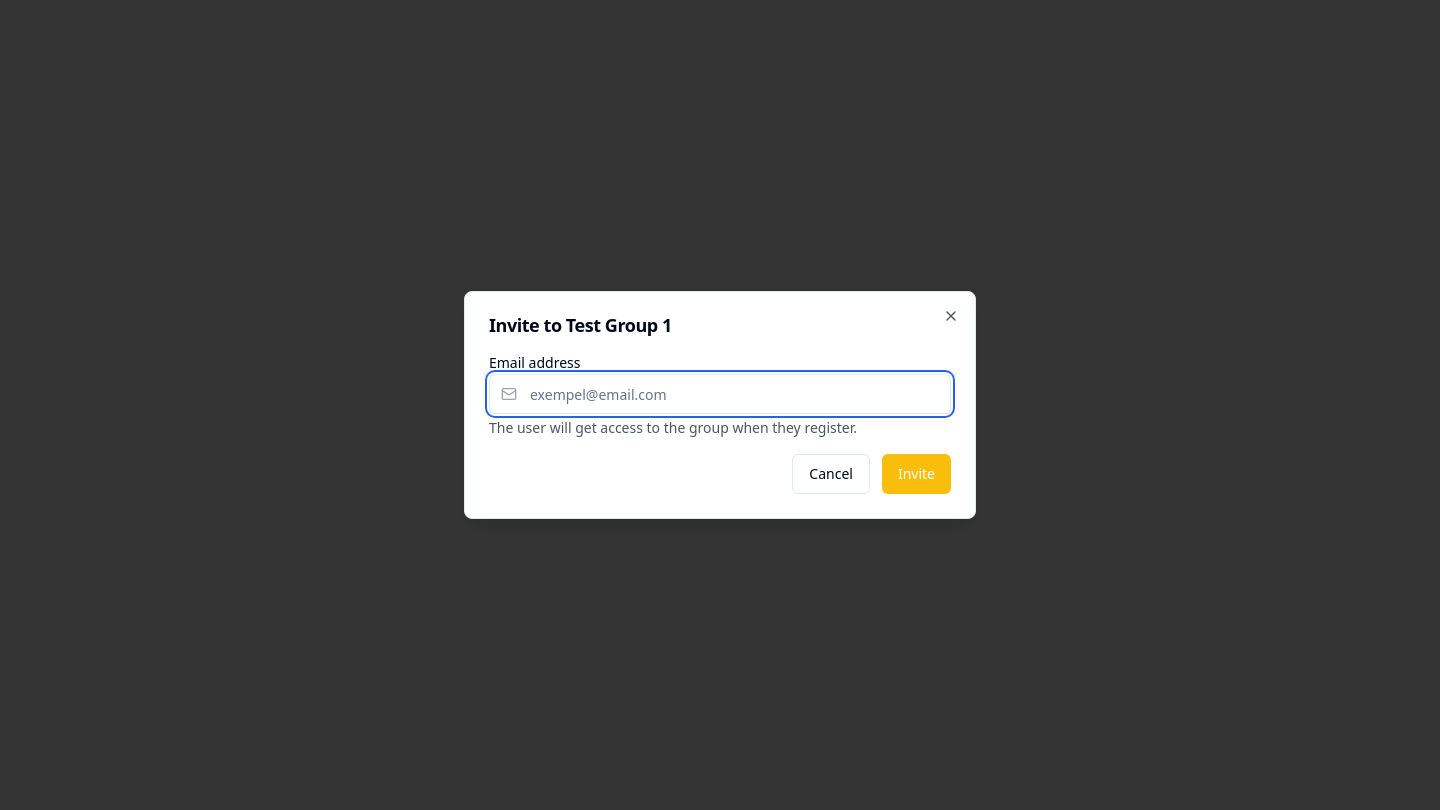
Test: Invitation Functionality › should allow inviting a user to a group
Fill in the email
Type "invite@example.com" into the field labelled "Email address" at (720, 394), box [489, 374, 951, 414]
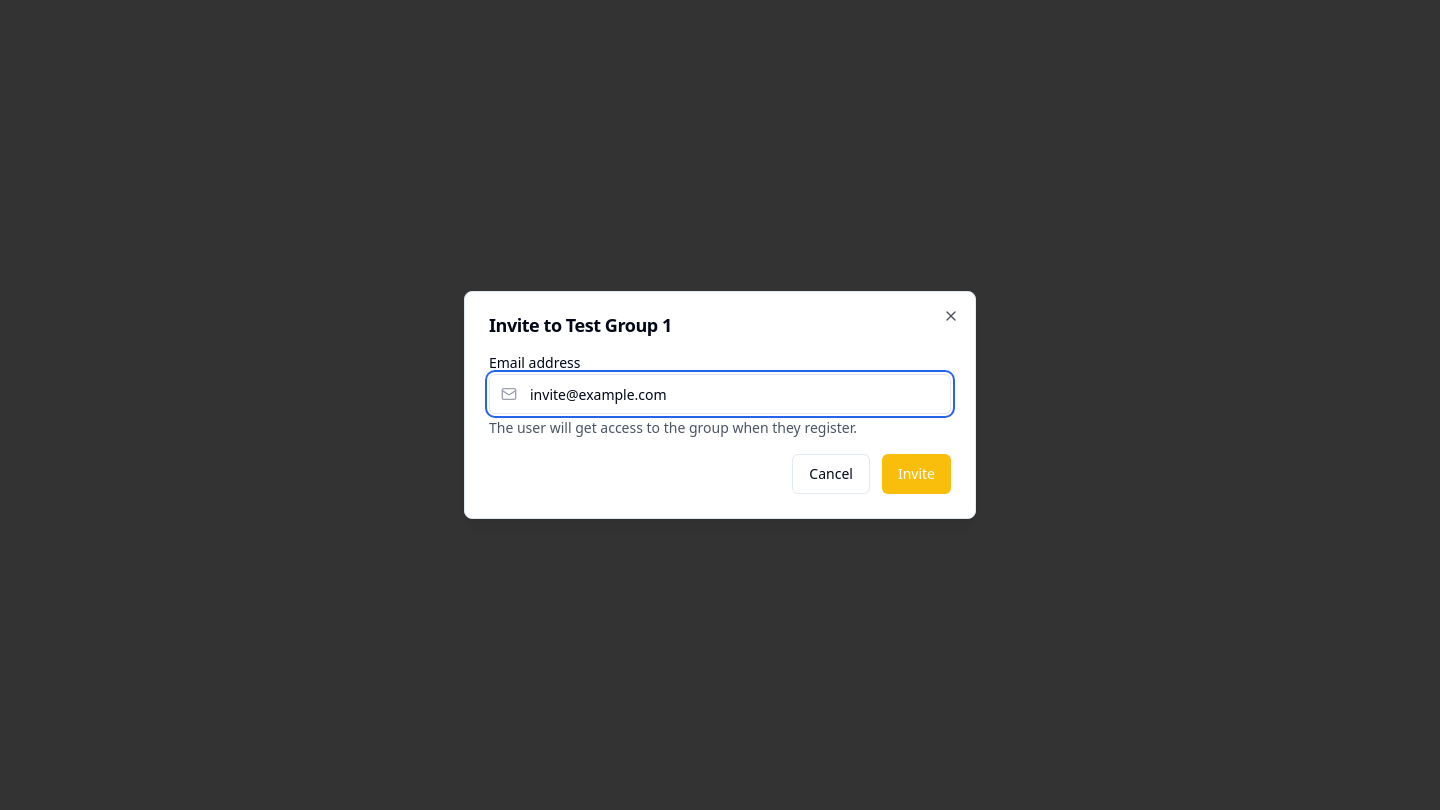
Submit the form
Click the button "Invite" at (916, 474), box [882, 454, 951, 494]
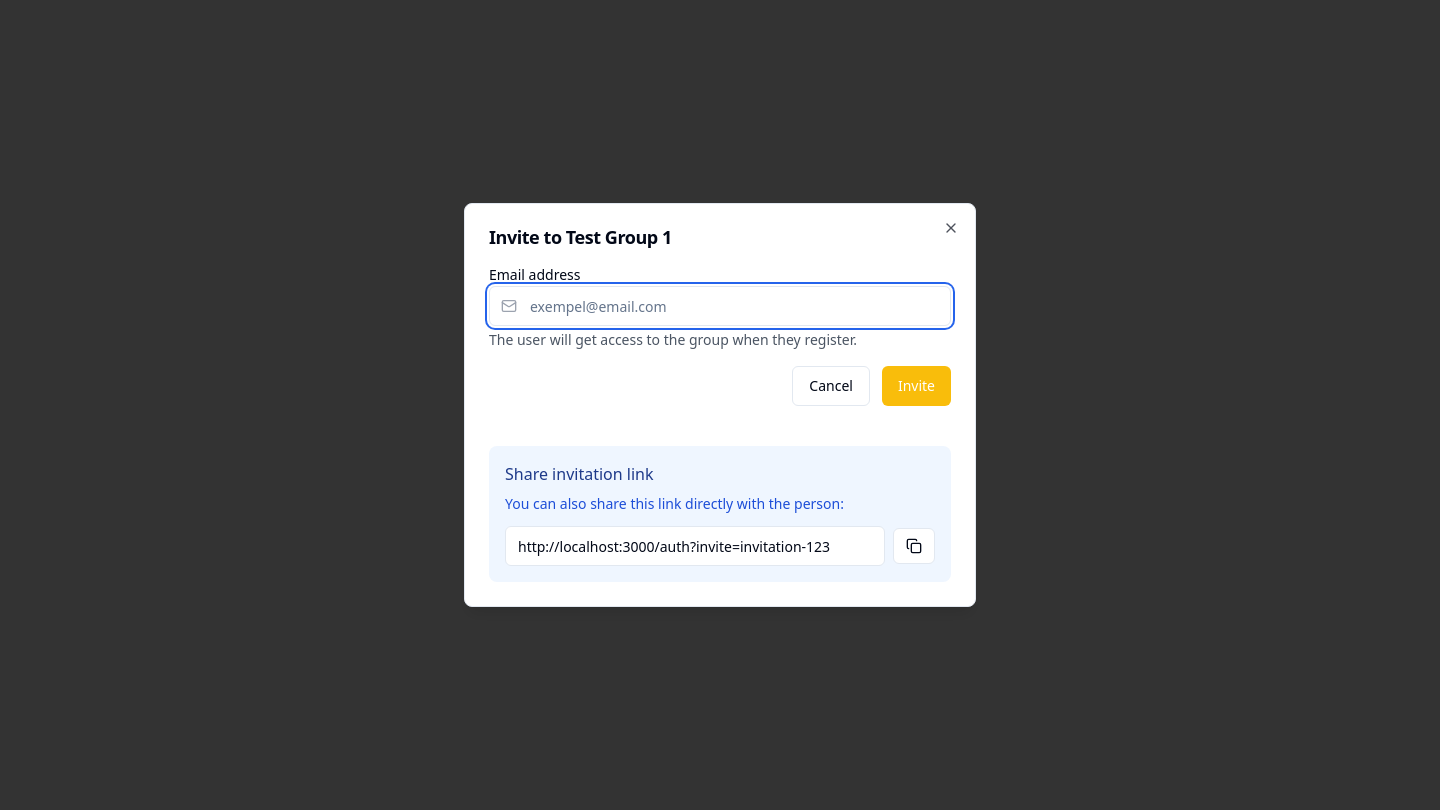
Now the heading "Share invitation link" is shown, box [505, 463, 654, 485]
Now the field showing "http://localhost:3000/auth?invite=invitation-123" is shown, box [505, 526, 885, 566]
